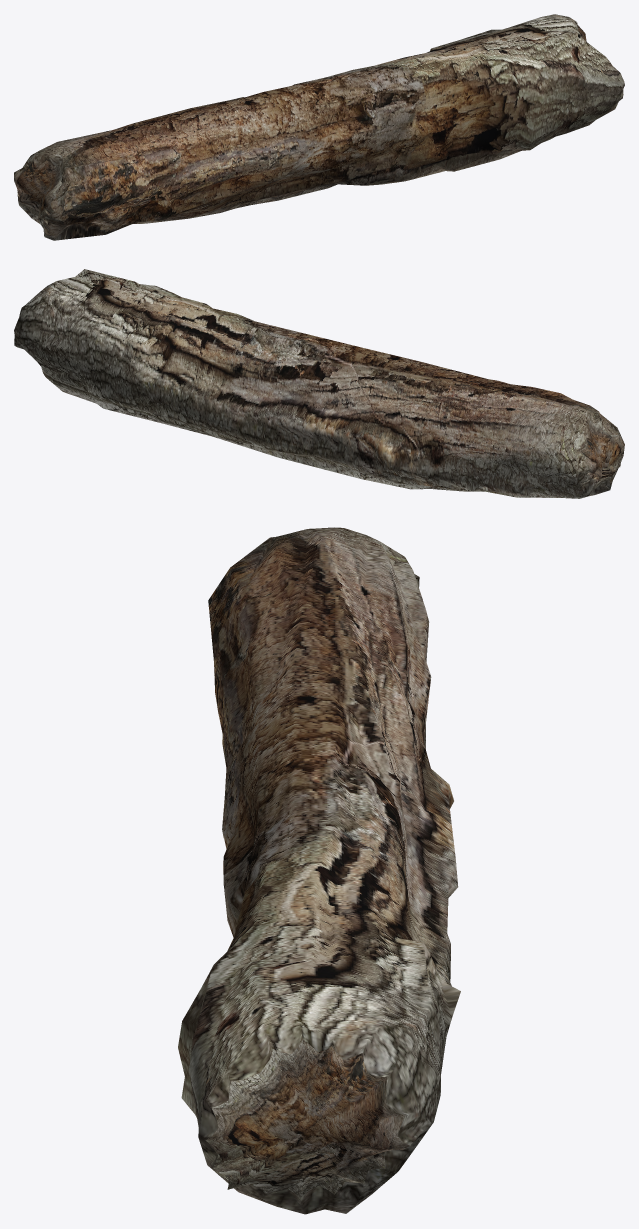
File: Decaying.FBX
3 views of the same model, one above another, from view 1: azimuth 30°, elevation 25°; view 2: azimuth 150°, elevation 25°; view 3: azimuth 270°, elevation 25° (orthographic). The views are drawn at different scales.
Parts seen in each view (by area): view 1: Cylinder001; view 2: Cylinder001; view 3: Cylinder001.
Part boxes in pixels (left/top/right/bottom): Cylinder001: left=14, top=14, right=624, bottom=240; Cylinder001: left=14, top=269, right=624, bottom=498; Cylinder001: left=178, top=527, right=460, bottom=1214.
Size of the model in its own units: 1710 by 325 by 369.
